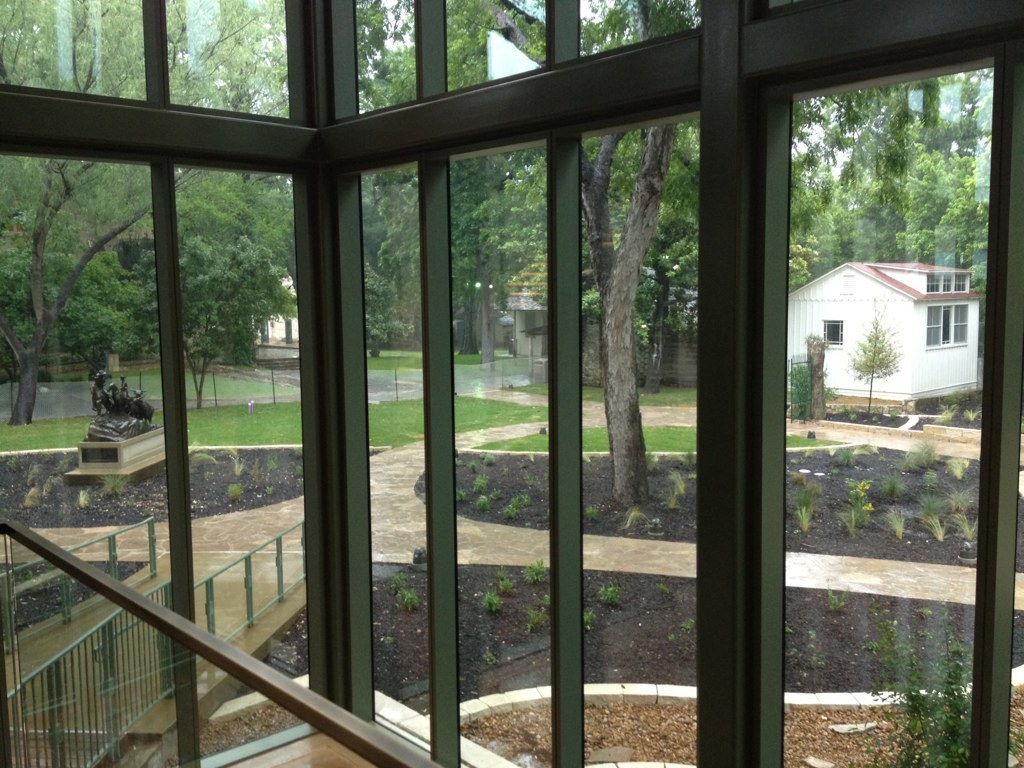Tree: (0, 0, 993, 508)
